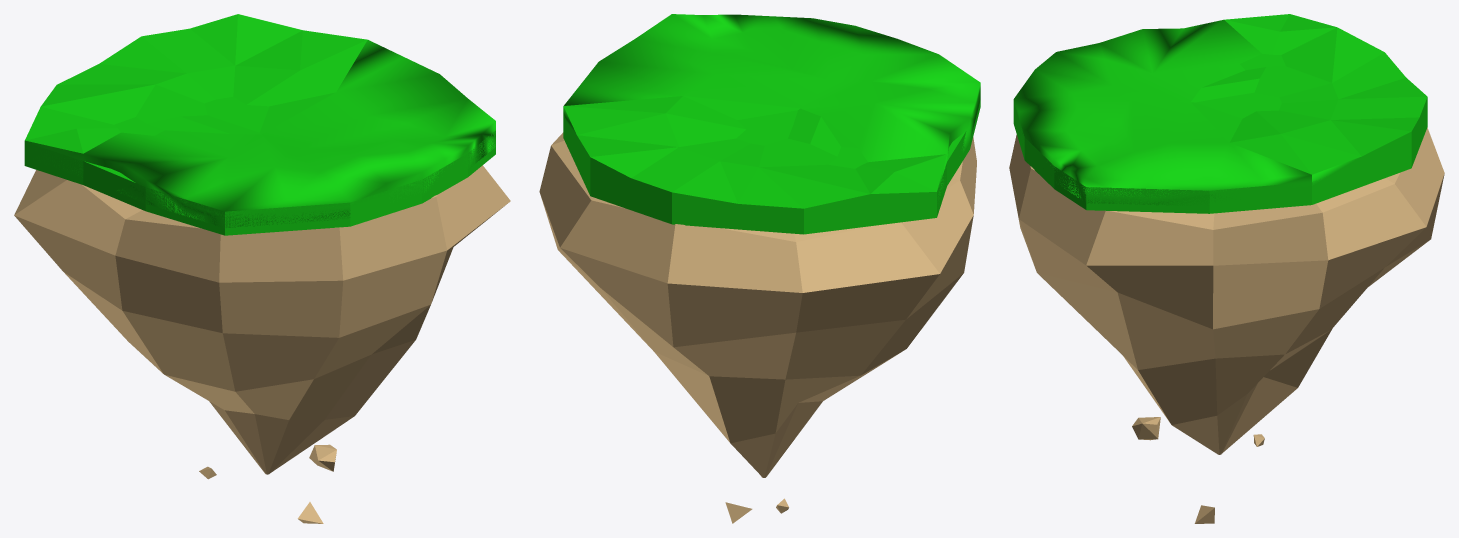
File: Low Poly Island.fbx
3 renders of one model, left to right at view 1: azimuth 30°, elevation 25°; view 2: azimuth 150°, elevation 25°; view 3: azimuth 270°, elevation 25°, orthographic. The views are drawn at different scales.
Visible parts, largest first — view 1: Island, Green_platform.002, Green_platform.001; view 2: Green_platform.002, Island, Green_platform.001; view 3: Island, Green_platform.002, Green_platform.001.
Part boxes in pixels (x1,y1,x2,y2): Island: [14, 165, 510, 523]; Green_platform.002: [24, 14, 495, 227]; Green_platform.001: [24, 97, 495, 235]; Green_platform.002: [563, 14, 980, 223]; Island: [539, 132, 976, 523]; Green_platform.001: [563, 100, 980, 234]; Island: [1009, 127, 1444, 523]; Green_platform.002: [1013, 14, 1427, 206]; Green_platform.001: [1013, 54, 1427, 213].
Size of the model in its own units: 3413 by 3505 by 3379.
